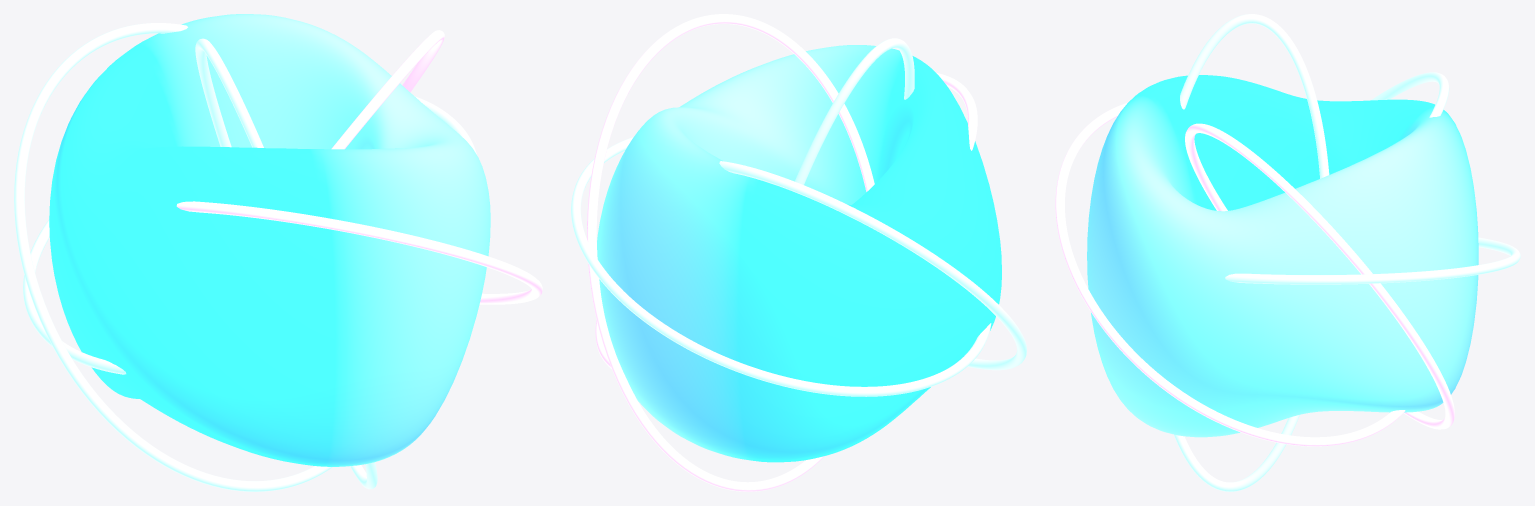
File: einstein_saddle.glb
3 renders of one model, left to right at view 1: azimuth 30°, elevation 25°; view 2: azimuth 150°, elevation 25°; view 3: azimuth 270°, elevation 25°, orthographic. The views are drawn at different scales.
Parts seen in each view (by area): view 1: CliffordCore, HopfFiberRing_2, HopfFiberRing_1, HopfFiberRing_4, HopfFiberRing_3, HopfFiberRing_0; view 2: CliffordCore, HopfFiberRing_3, HopfFiberRing_0, HopfFiberRing_2, HopfFiberRing_4, HopfFiberRing_1; view 3: CliffordCore, HopfFiberRing_1, HopfFiberRing_3, HopfFiberRing_4, HopfFiberRing_0, HopfFiberRing_2.
Part boxes in pixels (<box>): CliffordCore: <box>49,14,490,466</box>; HopfFiberRing_2: <box>14,23,332,491</box>; HopfFiberRing_1: <box>176,201,542,304</box>; HopfFiberRing_4: <box>195,38,377,489</box>; HopfFiberRing_3: <box>331,30,444,149</box>; HopfFiberRing_0: <box>23,96,476,374</box>; CliffordCore: <box>597,45,1001,462</box>; HopfFiberRing_3: <box>587,14,874,491</box>; HopfFiberRing_0: <box>571,137,991,396</box>; HopfFiberRing_2: <box>719,161,1026,370</box>; HopfFiberRing_4: <box>795,38,914,184</box>; HopfFiberRing_1: <box>595,73,977,369</box>; CliffordCore: <box>1087,75,1478,437</box>; HopfFiberRing_1: <box>1055,102,1405,446</box>; HopfFiberRing_3: <box>1185,123,1454,429</box>; HopfFiberRing_4: <box>1173,14,1329,491</box>; HopfFiberRing_0: <box>1225,237,1520,284</box>; HopfFiberRing_2: <box>1371,72,1449,117</box>.
Size of the model in its own units: 2.38 by 2.38 by 2.42.
